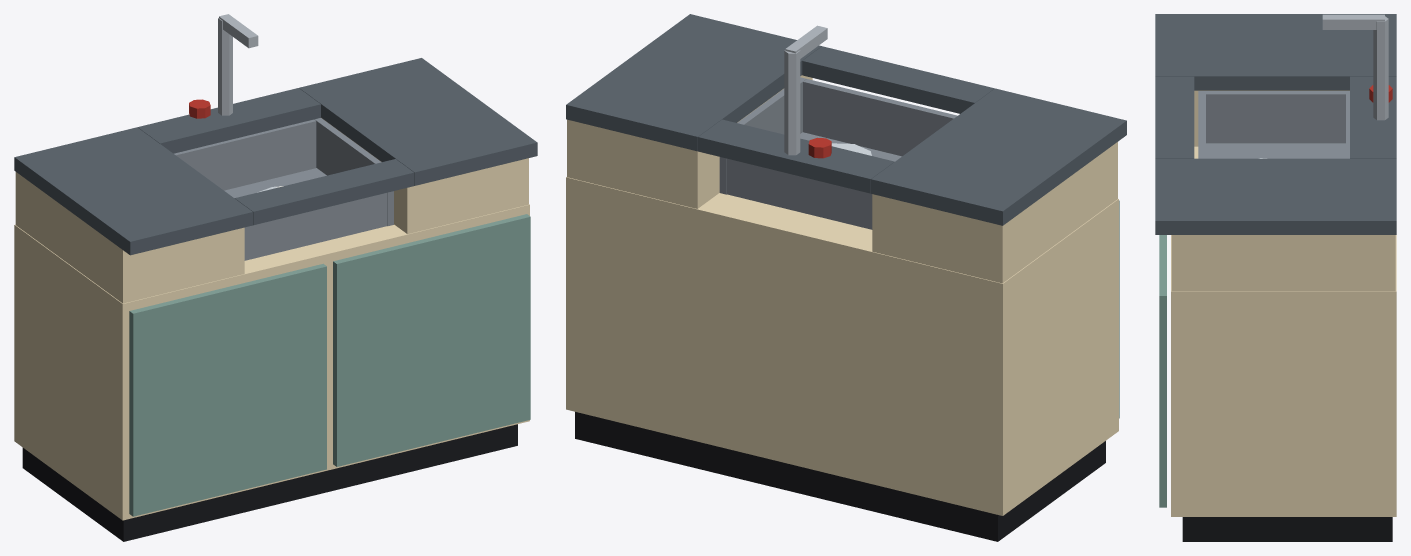
File: sinkCounter.fbx
3 views of the same model, side by side, from view 1: azimuth 30°, elevation 25°; view 2: azimuth 150°, elevation 25°; view 3: azimuth 270°, elevation 25° (orthographic). The views are drawn at different scales.
Visible parts, largest first — view 1: sinkCounter; view 2: sinkCounter; view 3: sinkCounter.
Boxes of the visible parts, bbox=[...] form: sinkCounter: bbox=[14, 14, 537, 541]; sinkCounter: bbox=[566, 14, 1126, 541]; sinkCounter: bbox=[1155, 14, 1396, 541].
Bounding box in the file's own units: 5.04 × 4.82 × 2.48.
